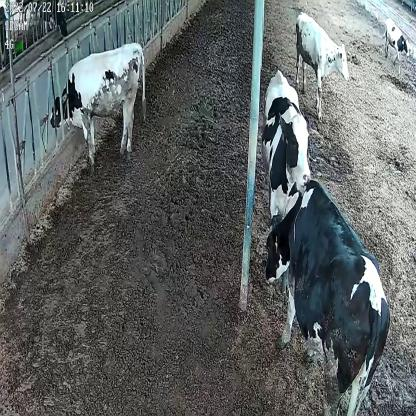cow: (262, 180, 390, 416), (48, 44, 148, 166), (262, 70, 310, 291), (292, 11, 350, 123), (381, 15, 408, 78)
